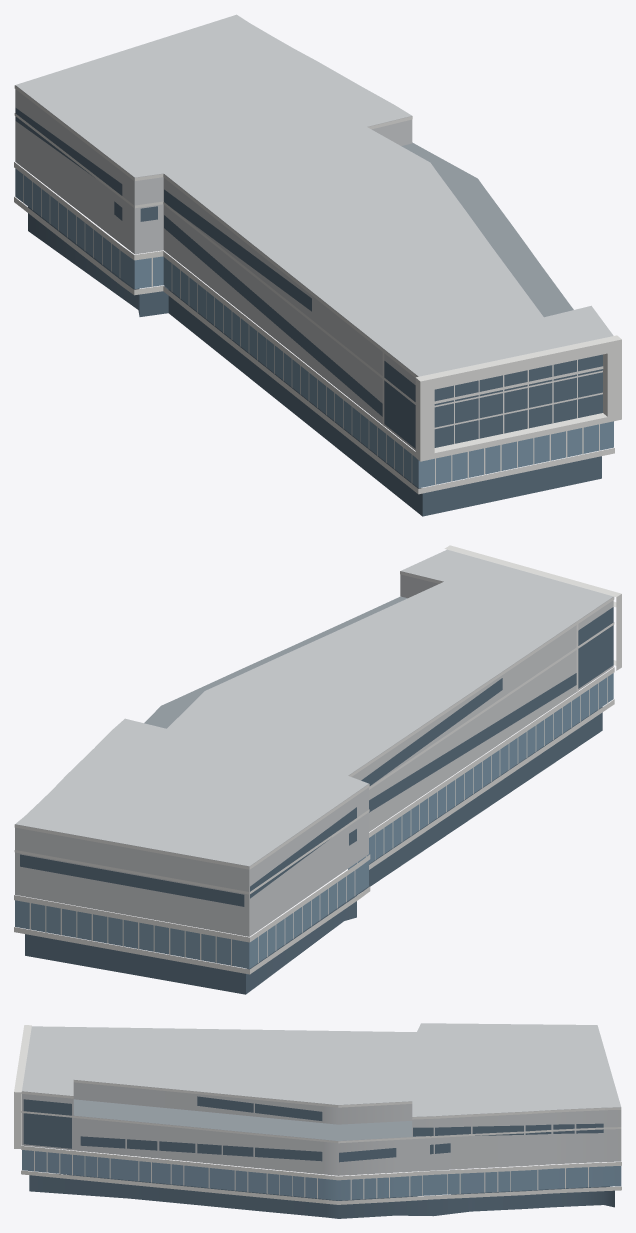
Rendered from ral-hunt-library.glb.
3 renders of one model, top to bottom at view 1: azimuth 30°, elevation 25°; view 2: azimuth 150°, elevation 25°; view 3: azimuth 270°, elevation 25°, orthographic. The views are drawn at different scales.
Visible parts, largest first — view 1: James B. Hunt Jr. Library; view 2: James B. Hunt Jr. Library; view 3: James B. Hunt Jr. Library.
Part boxes in pixels (x1=…): James B. Hunt Jr. Library: x1=14, y1=14, x2=621, y2=516; James B. Hunt Jr. Library: x1=14, y1=545, x2=621, y2=994; James B. Hunt Jr. Library: x1=14, y1=1023, x2=621, y2=1218.
Bounding box in the file's own units: 54.39 × 26.2 × 141.
